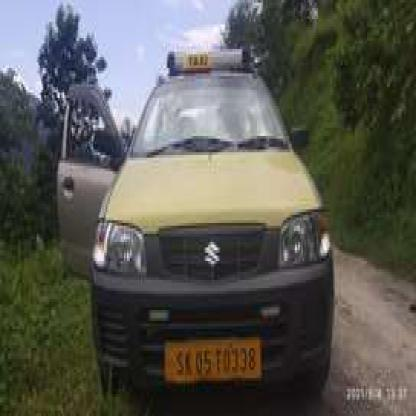license_plate: (162, 334, 262, 378)
